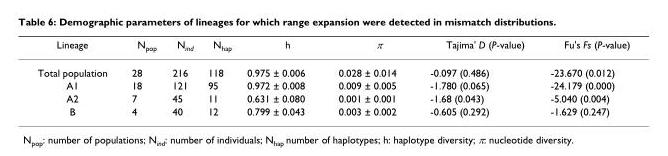table: (36, 37, 629, 116)
table column: (412, 37, 536, 116), (536, 37, 629, 116), (321, 37, 412, 116), (238, 37, 321, 116), (36, 37, 118, 116), (118, 37, 163, 116), (199, 37, 238, 116), (163, 37, 199, 116)
table column header: (36, 37, 629, 58)
table row: (36, 37, 629, 58), (36, 58, 629, 78), (36, 78, 629, 91), (36, 91, 629, 104), (36, 104, 629, 116)
